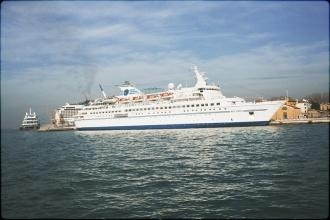youlun: (66, 73, 284, 132), (20, 106, 39, 130)
